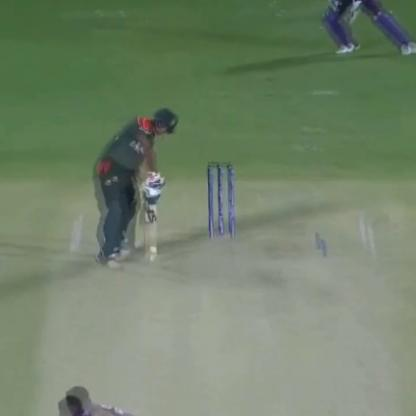ball: (144, 255, 156, 267), (148, 243, 158, 254)
bat: (140, 170, 164, 278)
pitch: (15, 215, 404, 415)
